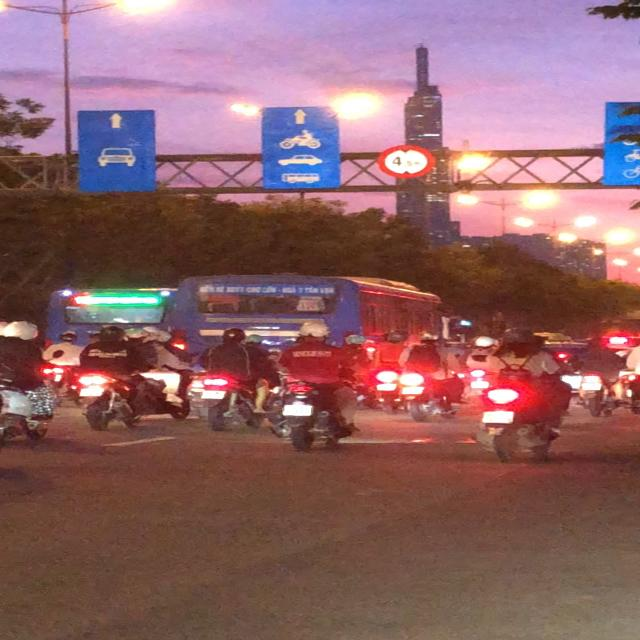Bien bao han che chieu cao: (372, 138, 447, 185)
